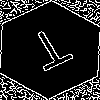T: (25, 25, 80, 80)
